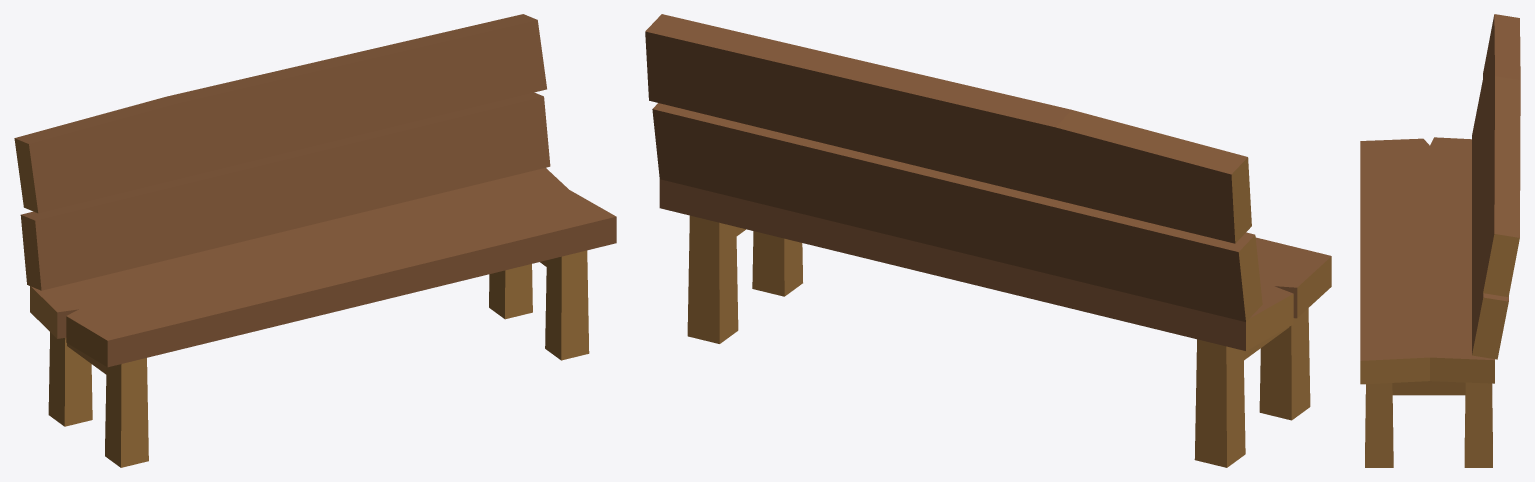
File: bench-wood.glb
3 views of the same model, side by side, from view 1: azimuth 30°, elevation 25°; view 2: azimuth 150°, elevation 25°; view 3: azimuth 270°, elevation 25° (orthographic). The views are drawn at different scales.
Visible parts, largest first — view 1: bench-wood; view 2: bench-wood; view 3: bench-wood.
Part boxes in pixels (x1=…): bench-wood: x1=14, y1=14, x2=616, y2=467; bench-wood: x1=645, y1=14, x2=1331, y2=467; bench-wood: x1=1360, y1=14, x2=1520, y2=467.
Bounding box in the file's own units: 2.04 × 1.05 × 0.617.
Materials: 1 (1 with a texture image).
